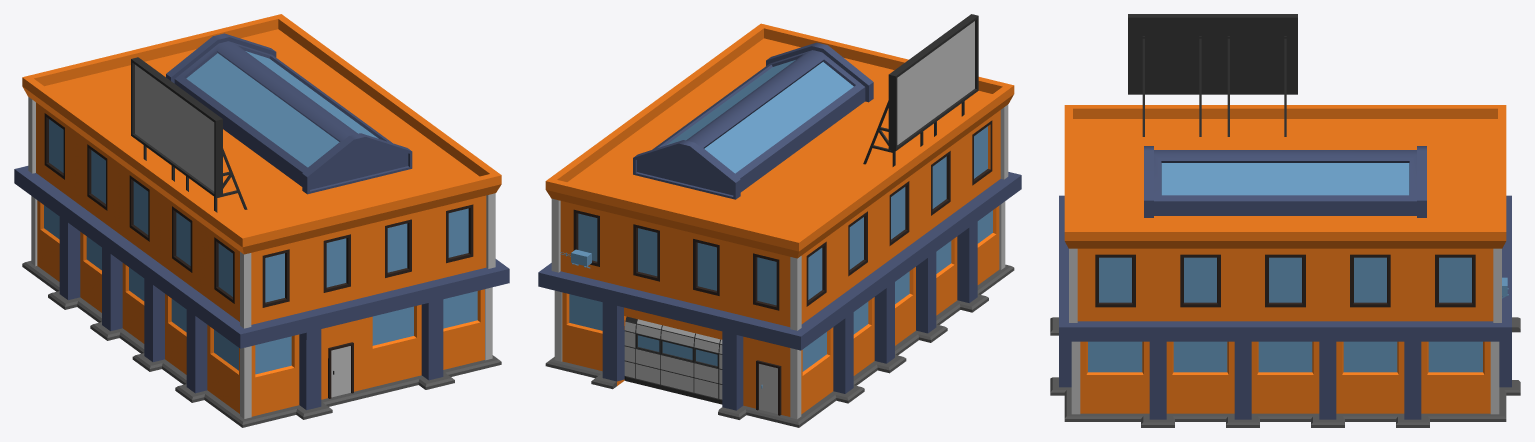
The model's file is Building_G.fbx.
3 renders of one model, left to right at view 1: azimuth 30°, elevation 25°; view 2: azimuth 150°, elevation 25°; view 3: azimuth 270°, elevation 25°, orthographic. The views are drawn at different scales.
Visible parts, largest first — view 1: Building_G; view 2: Building_G; view 3: Building_G.
Boxes of the visible parts, x1,y1,x2,y2 form: Building_G: [14, 14, 509, 427]; Building_G: [538, 14, 1021, 427]; Building_G: [1050, 14, 1520, 427].
Size of the model in its own units: 187 by 178 by 268.
